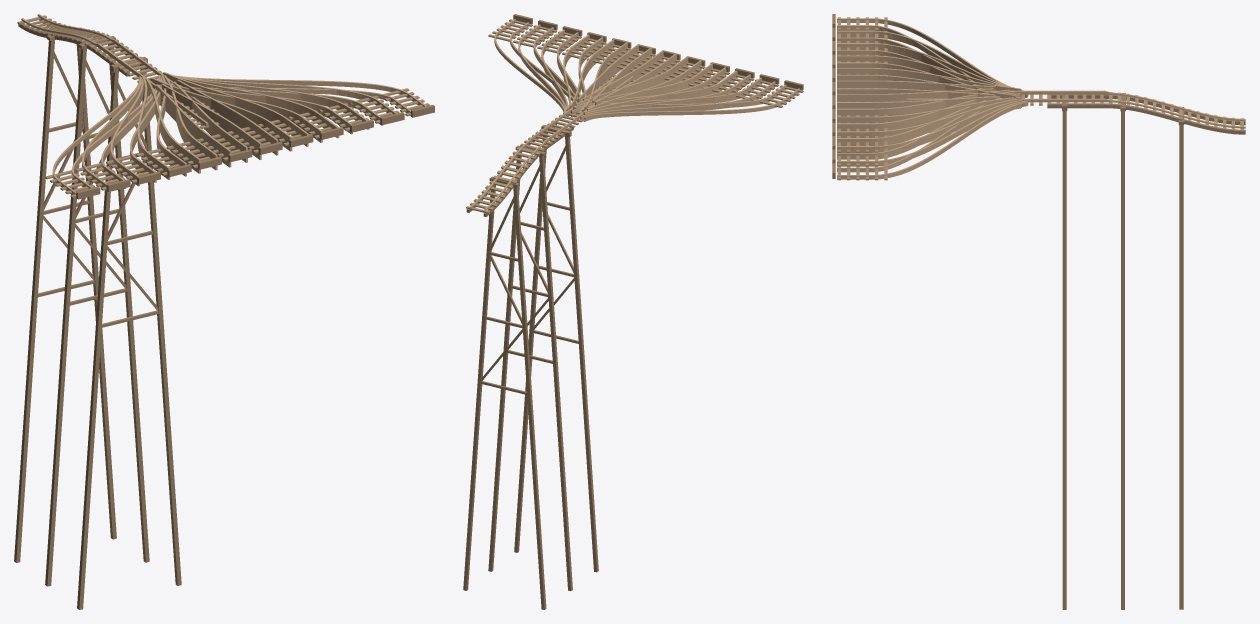
Rendered from MinecartMayhemRailStart.glb.
3 renders of one model, left to right at view 1: azimuth 30°, elevation 25°; view 2: azimuth 150°, elevation 25°; view 3: azimuth 270°, elevation 25°, orthographic. The views are drawn at different scales.
Parts seen in each view (by area): view 1: Trestle, Rails, Ties; view 2: Trestle, Rails, Ties; view 3: Rails, Trestle, Ties.
Part boxes in pixels (<box>): Trestle: <box>14,19,434,609</box>; Rails: <box>21,14,426,197</box>; Ties: <box>17,15,429,197</box>; Trestle: <box>463,14,803,609</box>; Rails: <box>469,19,800,212</box>; Ties: <box>466,19,803,213</box>; Rails: <box>837,18,1245,179</box>; Trestle: <box>832,14,1245,609</box>; Ties: <box>837,17,1243,180</box>.
Bounding box in the file's own units: 65.5 × 93.75 × 70.8.
